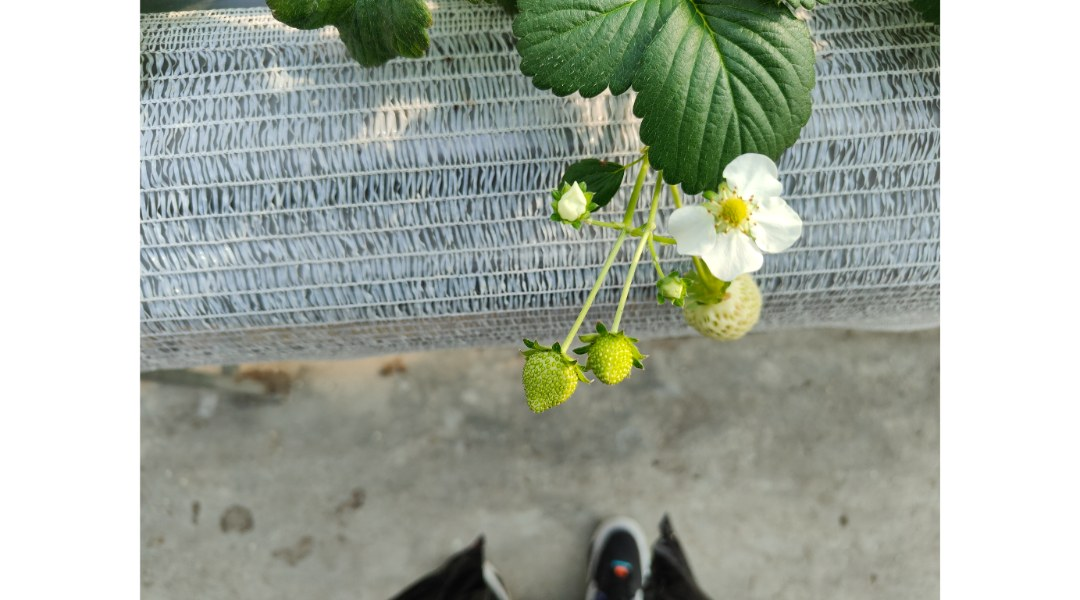berry: (682, 251, 771, 345), (503, 330, 586, 425), (589, 325, 657, 404), (545, 172, 598, 228), (649, 266, 694, 312)
flower: (663, 154, 805, 272)
strain: (561, 241, 619, 356), (608, 239, 648, 338), (625, 155, 646, 230), (649, 167, 670, 228)
